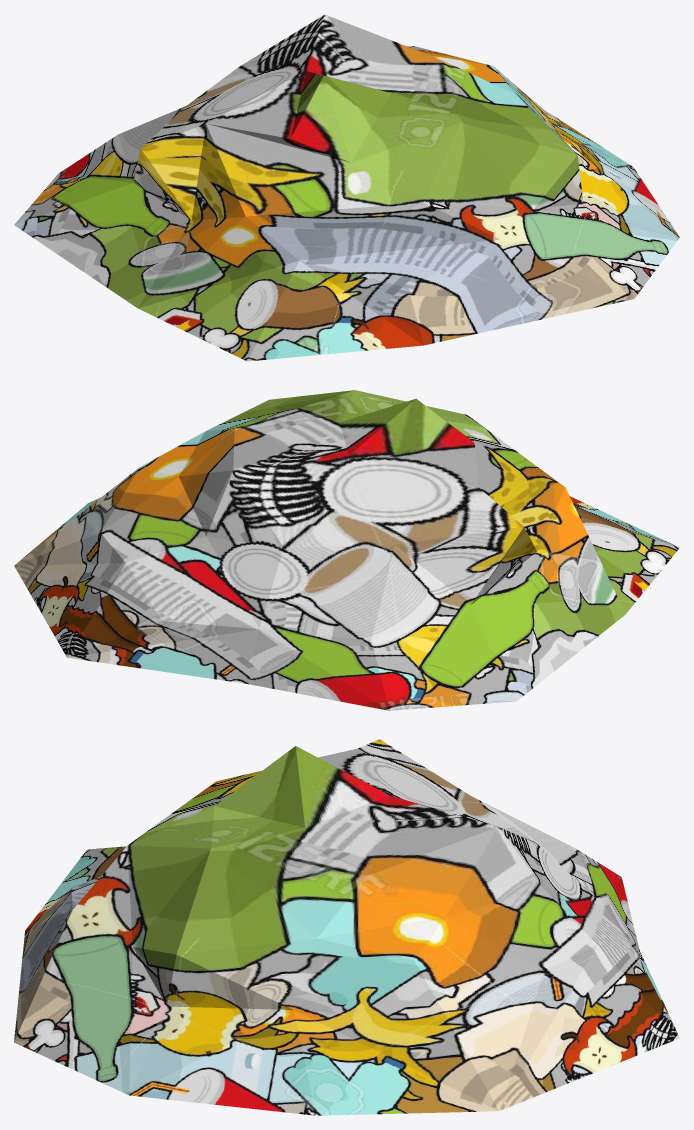
Rendered from pile1.fbx.
3 renders of one model, top to bottom at view 1: azimuth 30°, elevation 25°; view 2: azimuth 150°, elevation 25°; view 3: azimuth 270°, elevation 25°, orthographic. The views are drawn at different scales.
Visible parts, largest first — view 1: Icosphere.001; view 2: Icosphere.001; view 3: Icosphere.001.
Part boxes in pixels (left/top/right/bottom): Icosphere.001: left=14, top=14, right=679, bottom=361; Icosphere.001: left=14, top=390, right=679, bottom=710; Icosphere.001: left=14, top=739, right=679, bottom=1115.
Bounding box in the file's own units: 377 × 121 × 371.
